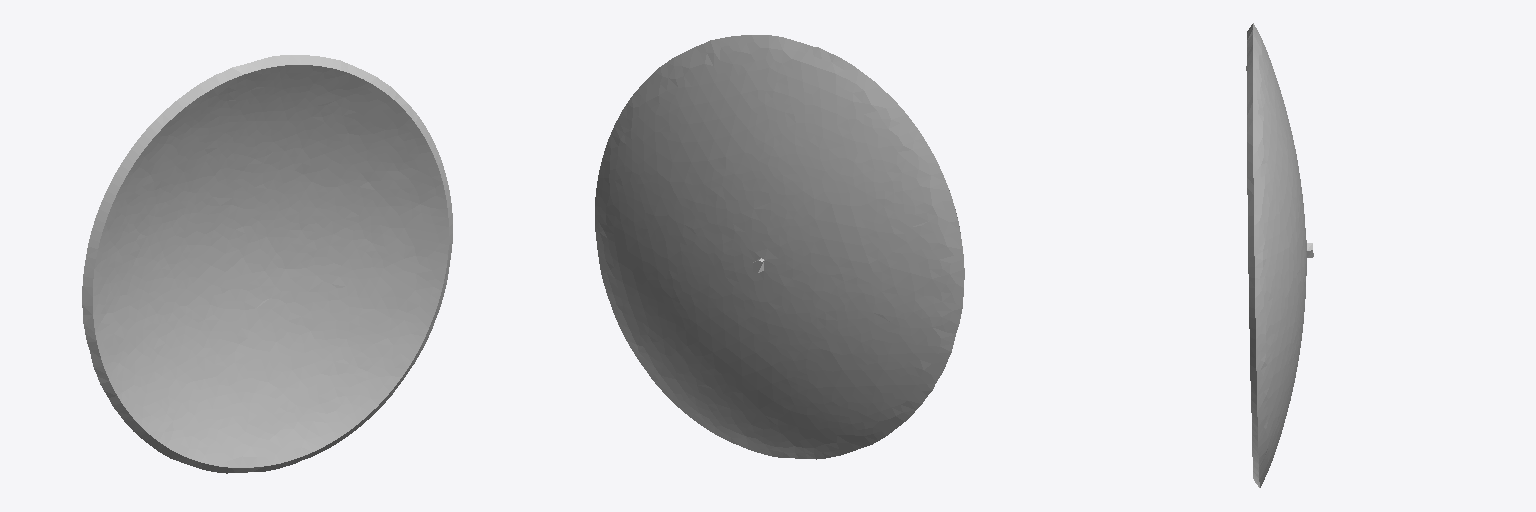
The model's file is Amulet_July_Disk_16.obj.
The picture shows the model from 3 angles: view 1: azimuth 30°, elevation 25°; view 2: azimuth 150°, elevation 25°; view 3: azimuth 270°, elevation 25°; orthographic projection.
Size of the model in its own units: 21.01 by 22.67 by 3.3.